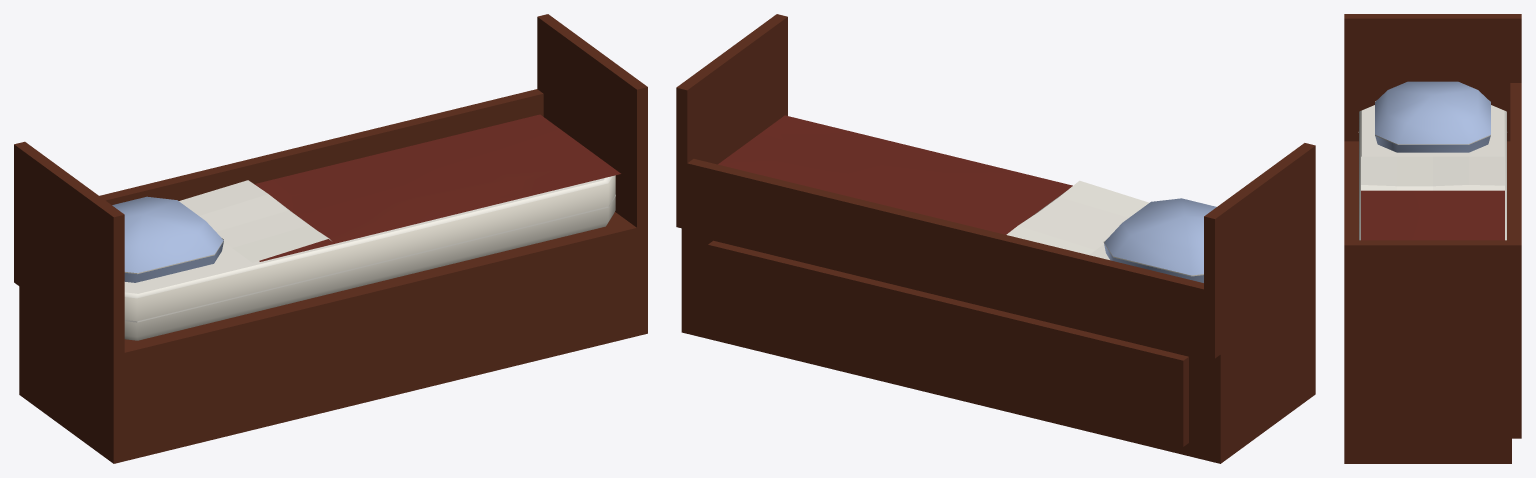
File: parametric-sized-berth-l170w55-3rd.glb
3 views of the same model, side by side, from view 1: azimuth 30°, elevation 25°; view 2: azimuth 150°, elevation 25°; view 3: azimuth 270°, elevation 25° (orthographic). The views are drawn at different scales.
Visible parts, largest first — view 1: parametric-sized-berth-l170w55-3rd; view 2: parametric-sized-berth-l170w55-3rd; view 3: parametric-sized-berth-l170w55-3rd.
Boxes of the visible parts, left/top/right/bottom form: parametric-sized-berth-l170w55-3rd: left=14, top=14, right=647, bottom=463; parametric-sized-berth-l170w55-3rd: left=676, top=14, right=1315, bottom=463; parametric-sized-berth-l170w55-3rd: left=1344, top=14, right=1521, bottom=463.
Bounding box in the file's own units: 1.7 × 0.75 × 0.55.
